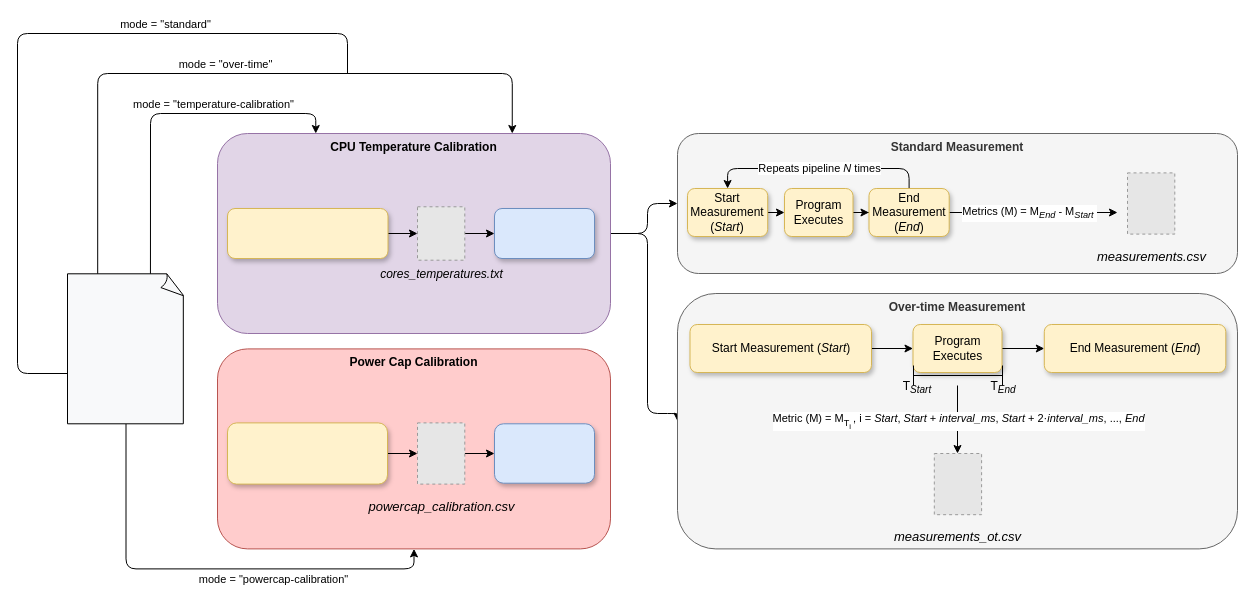
The diagram is 1255 pixels wide and 603 high, and some of its shapes have lost their labels. Grey dashed boxes stand in for pictures. The centre of each missing label's shape, as x and y in pixels:
Baseline CPU temperature: point (545, 235)
configuration.toml: point (125, 348)
Optimal power cap value: point (545, 454)
Run a custom program using power cap X-Y Watts: point (308, 454)
sleep secs_to_sleep: point (308, 235)
